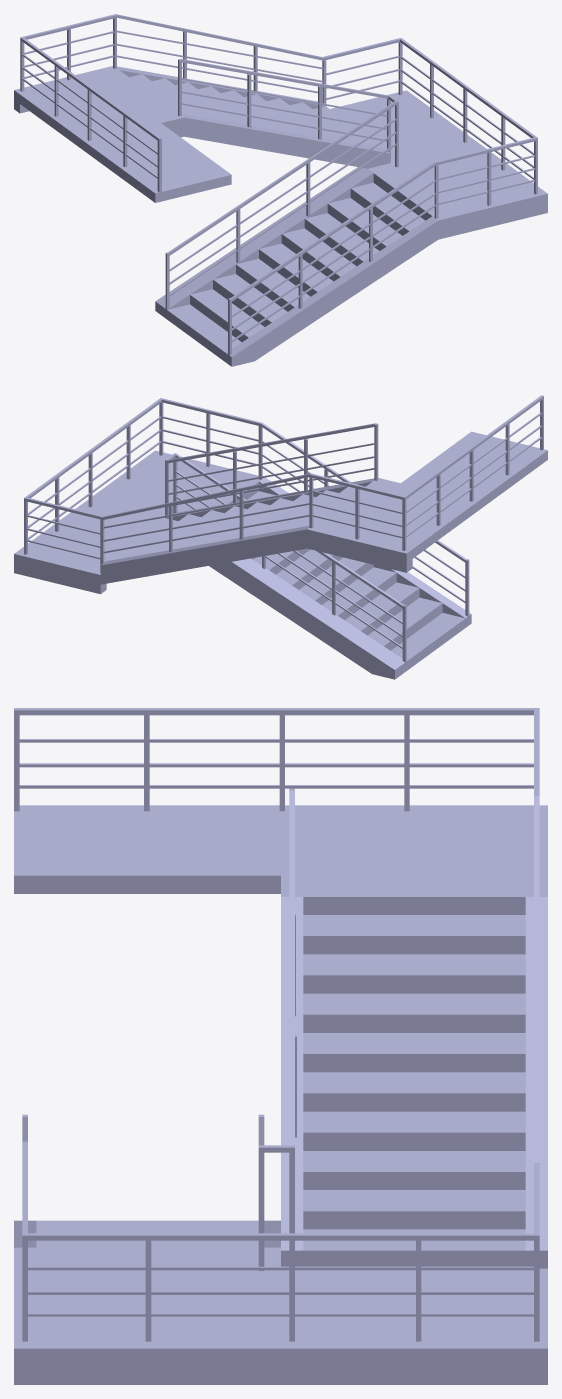
File: Stairs.fbx
3 views of the same model, one above another, from view 1: azimuth 30°, elevation 25°; view 2: azimuth 150°, elevation 25°; view 3: azimuth 270°, elevation 25° (orthographic). The views are drawn at different scales.
Visible parts, largest first — view 1: Group51, Group1, Group57, Group52, Group43, Group56, Group3, Group72, Group53, Group9, Group10, Group24 (+25 smaller); view 2: Group53, Group1, Group52, Group57, Group56, Group3, Group72, Group24, Group51, Group25, Group22, Group23 (+26 smaller); view 3: Group1, Group57, Group56, Group3, Group72, Group53, Group59, Group60, Group62, Group63, Group65, Group66 (+19 smaller).
Boxes of the visible parts, x1,y1,x2,y2 form: Group51: (226, 192, 537, 366); Group1: (113, 14, 547, 302); Group57: (78, 119, 231, 202); Group52: (155, 140, 472, 318); Group43: (155, 113, 390, 168); Group56: (20, 75, 154, 146); Group3: (397, 149, 531, 210); Group72: (336, 97, 460, 157); Group53: (14, 66, 401, 113); Group9: (169, 118, 396, 296); Group10: (232, 180, 435, 342); Group24: (167, 304, 241, 362); Group53: (24, 525, 412, 594); Group1: (14, 398, 469, 575); Group52: (89, 500, 406, 679); Group57: (395, 431, 547, 515); Group56: (336, 487, 471, 558); Group3: (101, 457, 232, 515); Group72: (30, 509, 155, 568); Group24: (391, 613, 465, 670); Group51: (160, 453, 471, 627); Group25: (368, 597, 442, 650); Group22: (345, 582, 419, 635); Group23: (322, 567, 396, 620); Group1: (14, 793, 547, 1384); Group57: (14, 805, 303, 893); Group56: (303, 805, 525, 875); Group3: (36, 1270, 258, 1339); Group72: (303, 1270, 525, 1339); Group53: (525, 805, 547, 1339); Group59: (303, 875, 525, 914); Group60: (303, 1033, 525, 1072); Group62: (303, 915, 525, 954); Group63: (303, 954, 525, 993); Group65: (303, 1190, 525, 1229); Group66: (303, 1072, 525, 1111).
Bounding box in the file's own units: 770 × 465 × 480.
